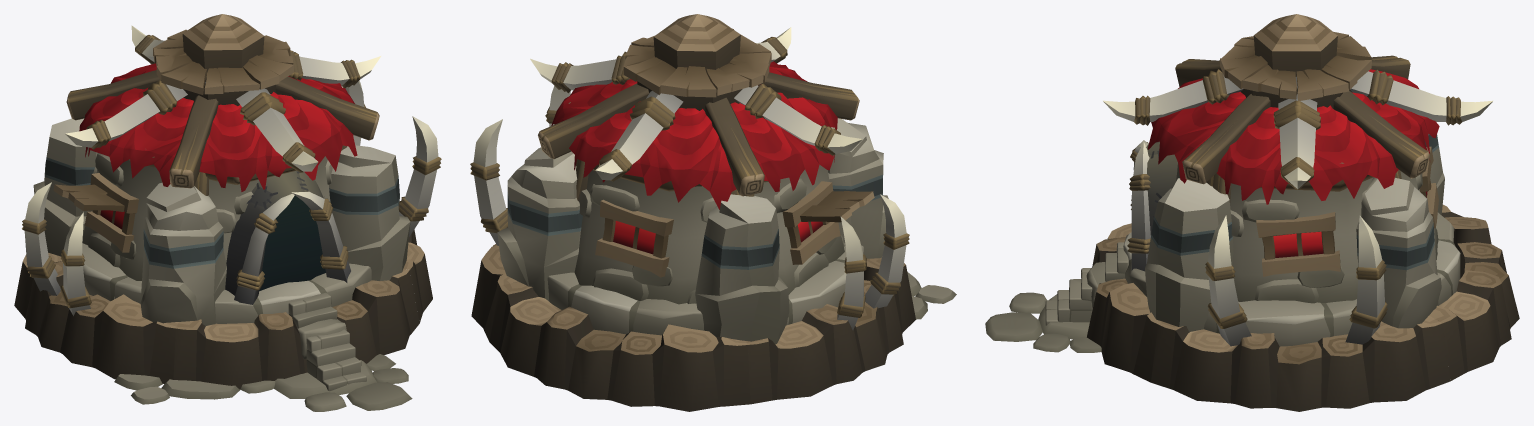
File: orc_house_Lv2.fbx
3 views of the same model, side by side, from view 1: azimuth 30°, elevation 25°; view 2: azimuth 150°, elevation 25°; view 3: azimuth 270°, elevation 25° (orthographic). The views are drawn at different scales.
Visible parts, largest first — view 1: orc_hut_Lv2; view 2: orc_hut_Lv2; view 3: orc_hut_Lv2.
Part boxes in pixels (x1,y1,x2,y2): orc_hut_Lv2: (14,14,441,411); orc_hut_Lv2: (470,14,956,411); orc_hut_Lv2: (985,14,1519,411).
Size of the model in its own units: 9.31 by 7.07 by 11.26.
